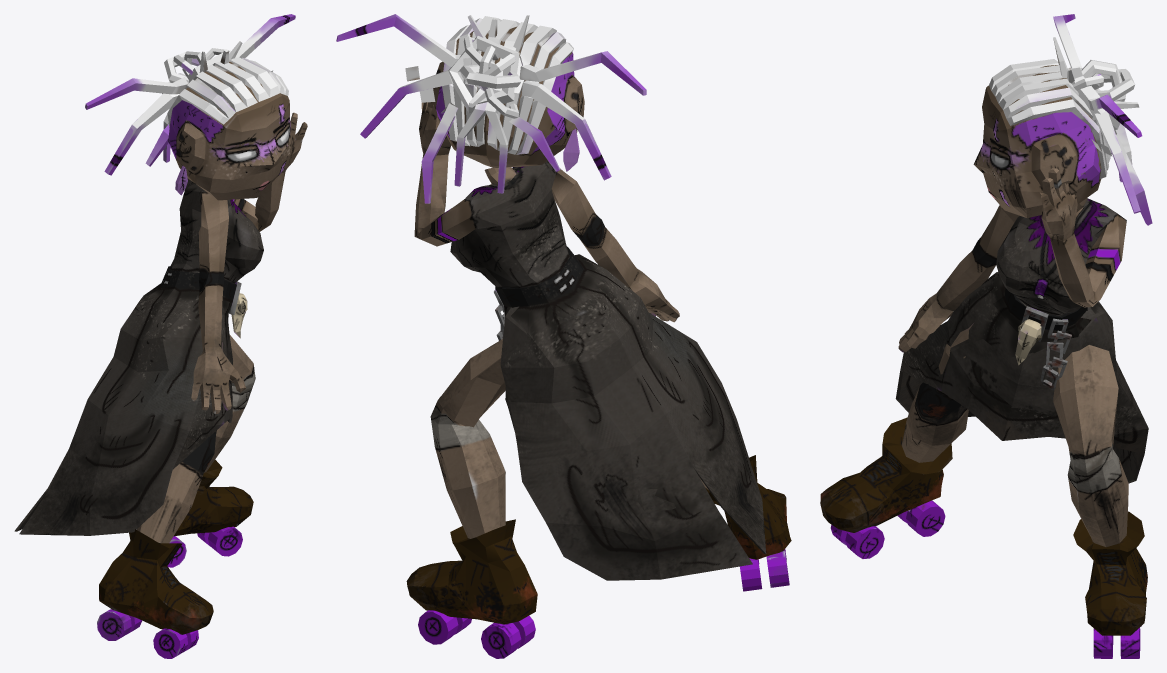
The model's file is bruja_000030.obj.
The picture shows the model from 3 angles, left to right: view 1: azimuth 30°, elevation 25°; view 2: azimuth 150°, elevation 25°; view 3: azimuth 270°, elevation 25°; orthographic projection. The views are drawn at different scales.
Visible parts, largest first — view 1: Bruja_Plane.001; view 2: Bruja_Plane.001; view 3: Bruja_Plane.001.
Part boxes in pixels (box(x1,y1,x2,y2)): Bruja_Plane.001: box(14, 14, 307, 658); Bruja_Plane.001: box(336, 14, 791, 658); Bruja_Plane.001: box(820, 14, 1152, 658).
Bounding box in the file's own units: 9.92 × 15.45 × 7.8.
